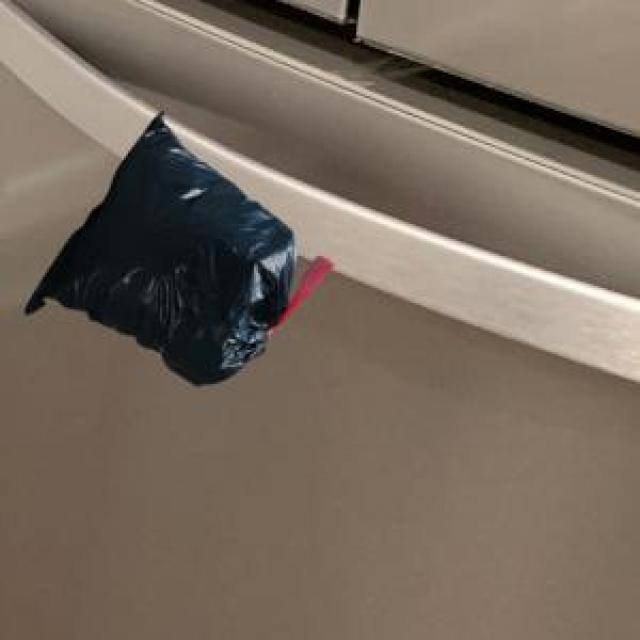Vinyl: (25, 114, 294, 383)
